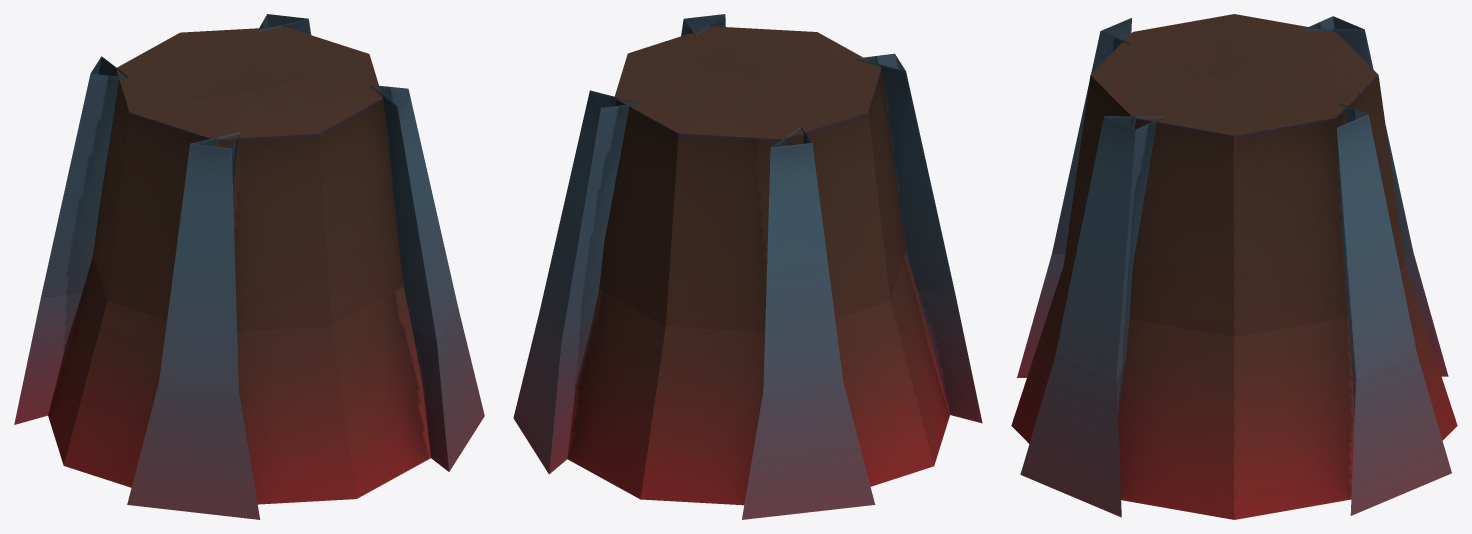
Rendered from Dead.fbx.
The picture shows the model from 3 angles, left to right: view 1: azimuth 30°, elevation 25°; view 2: azimuth 150°, elevation 25°; view 3: azimuth 270°, elevation 25°; orthographic projection. The views are drawn at different scales.
Parts seen in each view (by area): view 1: bing_1_5; view 2: bing_1_5; view 3: bing_1_5.
Boxes of the visible parts, box(x1,y1,x2,y2) form: bing_1_5: box(14, 14, 484, 519); bing_1_5: box(513, 14, 982, 519); bing_1_5: box(1011, 14, 1457, 519).
Size of the model in its own units: 565 by 494 by 565.
